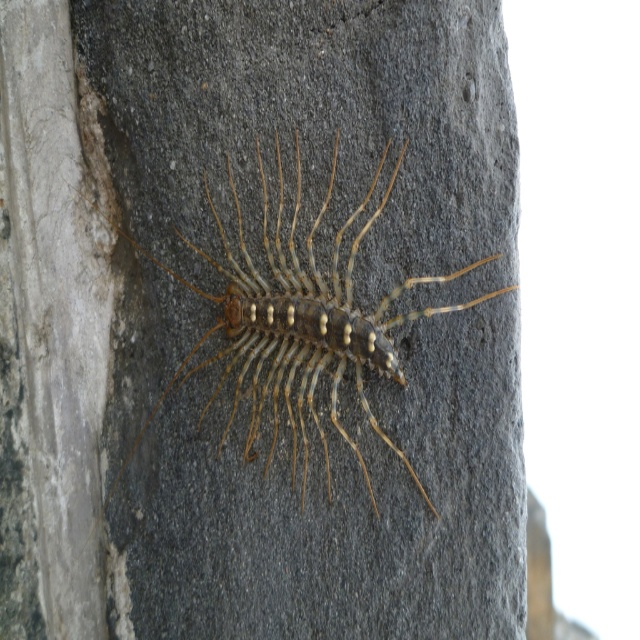Centipede: (95, 67, 536, 557)
